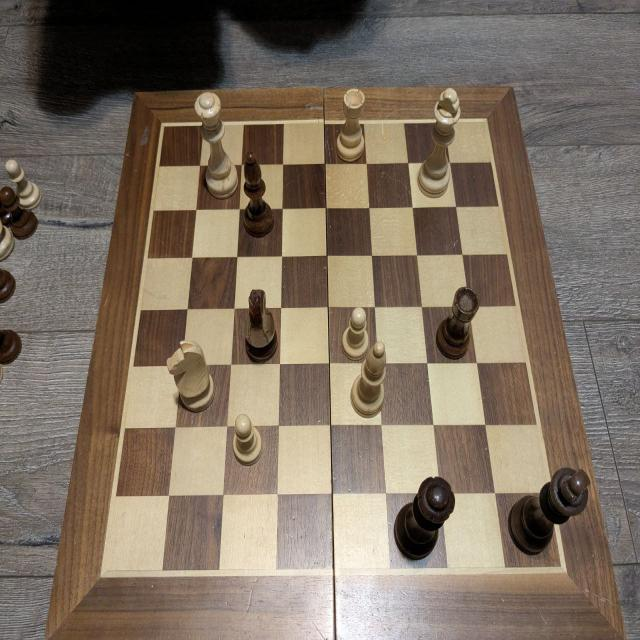black_bishop: (242, 154, 274, 236)
black_king: (508, 464, 590, 554)
black_knight: (245, 289, 278, 361)
black_queen: (394, 476, 454, 560)
black_rook: (436, 286, 480, 359)
white_bishop: (350, 341, 388, 417)
white_king: (416, 88, 460, 197)
white_knight: (166, 339, 213, 412)
white_pawn: (232, 412, 264, 464), (343, 306, 370, 359)
white_queen: (194, 92, 239, 200)
white_rook: (336, 85, 366, 162)
